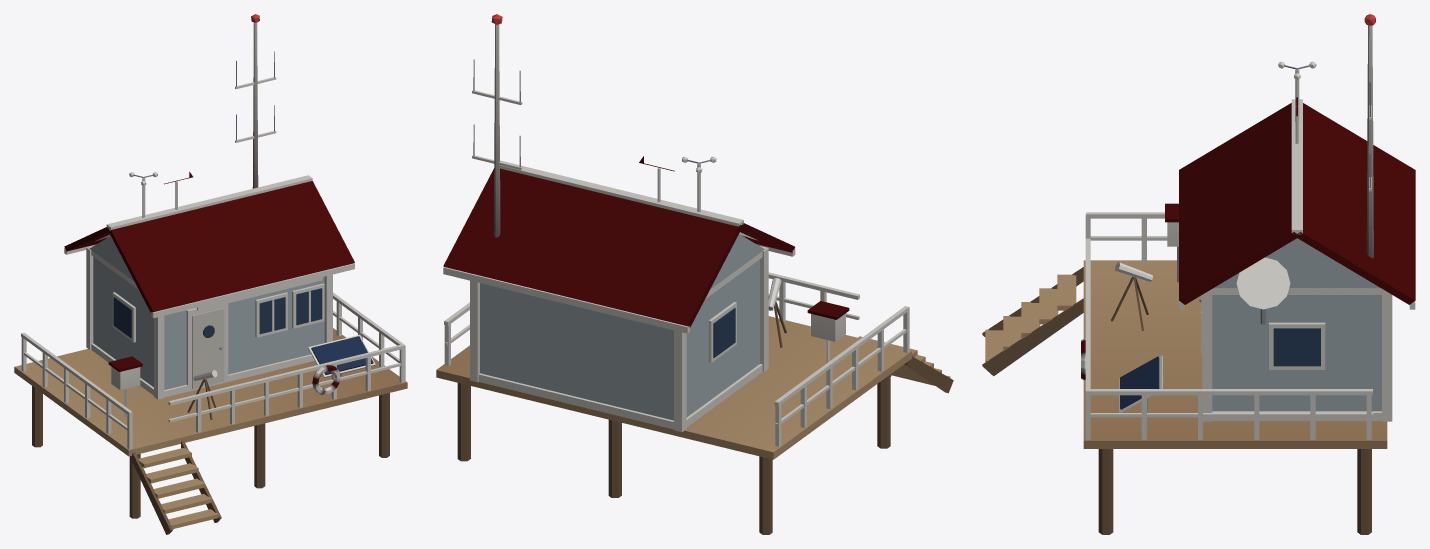
Rendered from Research_Station.glb.
3 renders of one model, left to right at view 1: azimuth 30°, elevation 25°; view 2: azimuth 150°, elevation 25°; view 3: azimuth 270°, elevation 25°, orthographic. The views are drawn at different scales.
Parts seen in each view (by area): view 1: Research_Station; view 2: Research_Station; view 3: Research_Station.
Part boxes in pixels (left/top/right/bottom): Research_Station: left=14, top=14, right=407, bottom=534; Research_Station: left=436, top=14, right=953, bottom=534; Research_Station: left=982, top=14, right=1415, bottom=534.
Bounding box in the file's own units: 7.6 × 9.8 × 7.7.
